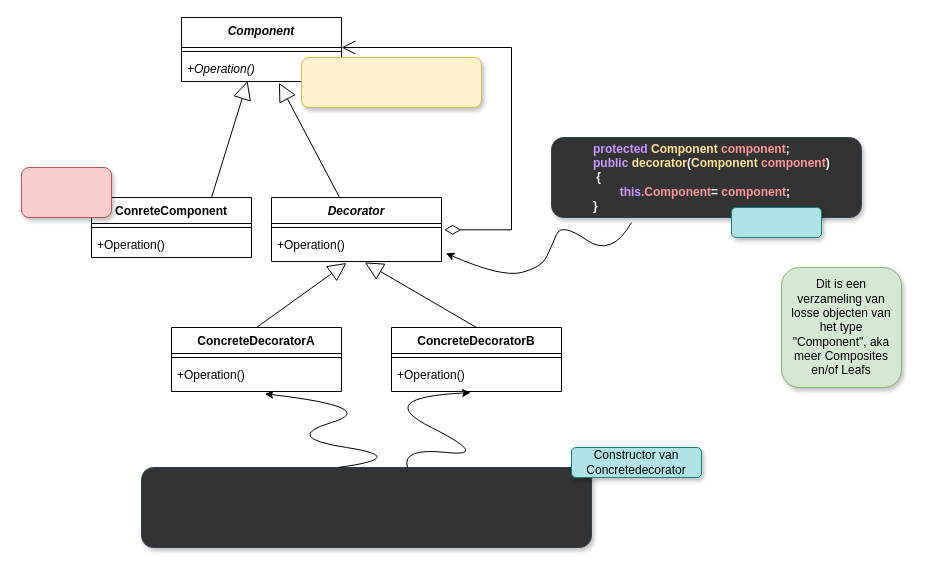
Some shapes in this 925 by 572 pixel diagram are drawn without their labels. Here are the shapes that lost their labels. From the top down, the centre of each, then its label:
At [392,83]: "De interface beschrijft een methode die elk component zelf moet implementen".
At [67,193]: "Basis component ongedecoreert".
At [777,223]: "Constructor van decorator".
At [367,508]: "public ConcreteDecorator ( Component component ) : base ( component ) { }".
